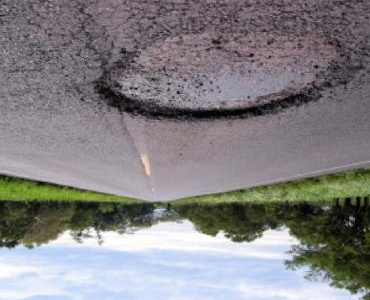pothole: (90, 16, 365, 124)
